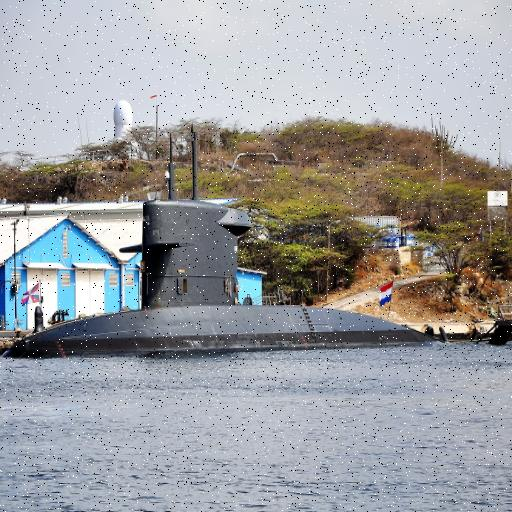submarine: (5, 183, 445, 359)
